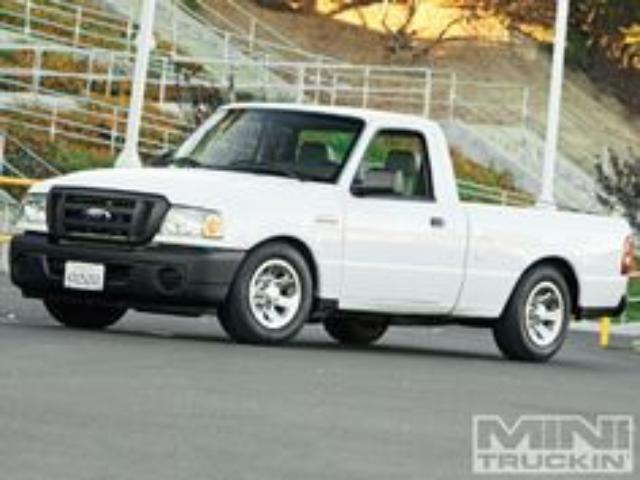pickup-truck: (11, 103, 637, 363)
